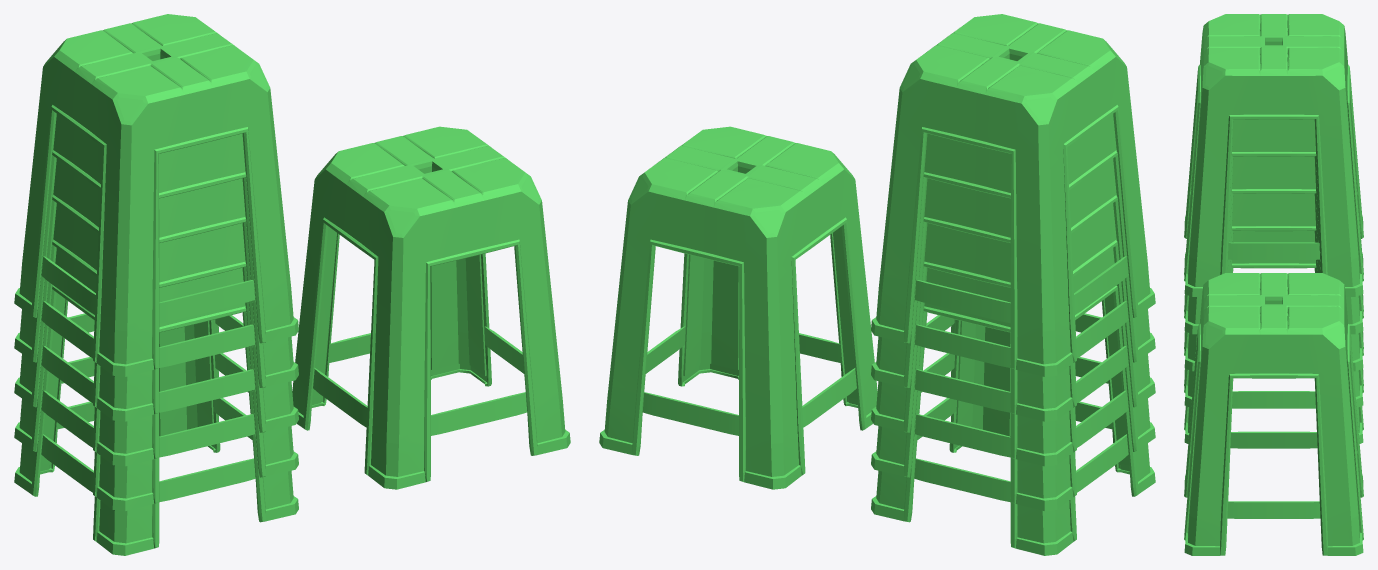
Rendered from stool.fbx.
3 renders of one model, left to right at view 1: azimuth 30°, elevation 25°; view 2: azimuth 150°, elevation 25°; view 3: azimuth 270°, elevation 25°, orthographic. The views are drawn at different scales.
Parts seen in each view (by area): view 1: Box08, Box14, Box10, Box12, Box11, Box13; view 2: Box08, Box14, Box10, Box12, Box11, Box13; view 3: Box08, Box14, Box13, Box12, Box11, Box10.
Boxes of the visible parts, x1,y1,x2,y2 form: Box08: [292, 126, 570, 489]; Box14: [14, 14, 298, 376]; Box10: [14, 248, 298, 555]; Box12: [14, 158, 298, 466]; Box11: [14, 203, 298, 511]; Box13: [14, 114, 298, 421]; Box08: [599, 126, 877, 489]; Box14: [871, 14, 1155, 376]; Box10: [871, 248, 1155, 555]; Box12: [871, 158, 1155, 466]; Box11: [871, 203, 1155, 511]; Box13: [871, 114, 1155, 421]; Box08: [1184, 273, 1363, 555]; Box14: [1184, 14, 1363, 296]; Box13: [1184, 119, 1363, 334]; Box12: [1184, 156, 1363, 371]; Box11: [1184, 193, 1363, 407]; Box10: [1184, 231, 1363, 443].
Bounding box in the file's own units: 10.11 × 9.3 × 4.13.
